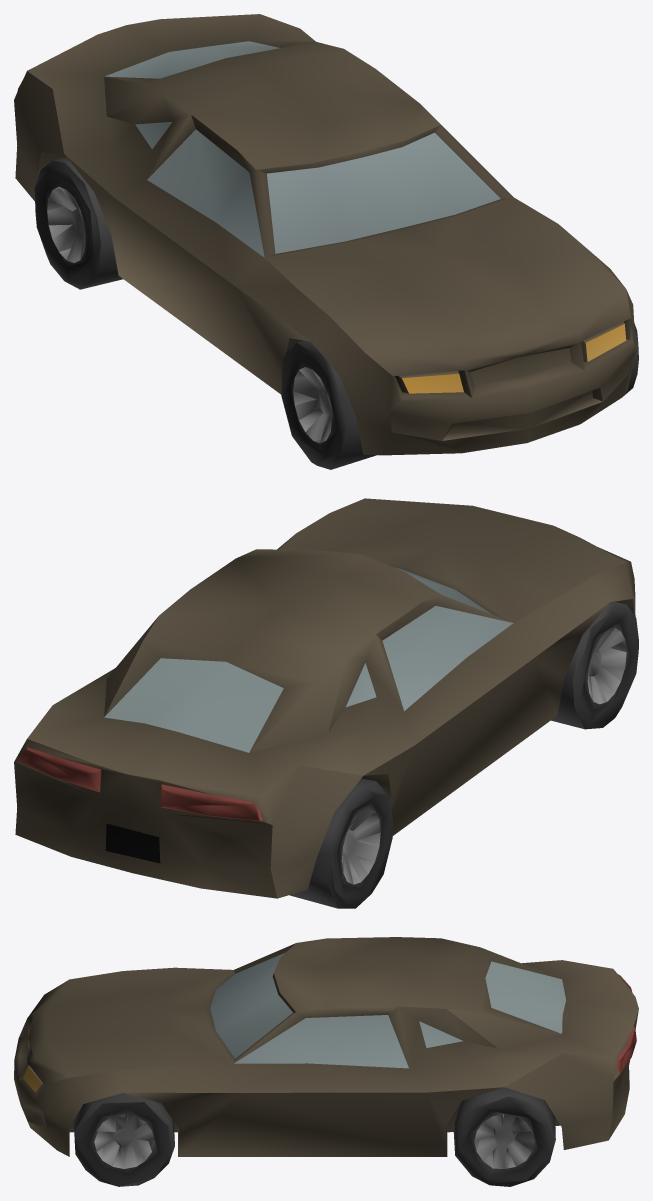
The model's file is Car 8.fbx.
3 views of the same model, one above another, from view 1: azimuth 30°, elevation 25°; view 2: azimuth 150°, elevation 25°; view 3: azimuth 270°, elevation 25° (orthographic). The views are drawn at different scales.
Parts seen in each view (by area): view 1: Car 8.001; view 2: Car 8.001; view 3: Car 8.001.
Part boxes in pixels (x1,y1,x2,y2): Car 8.001: (14, 14, 638, 469); Car 8.001: (14, 498, 638, 908); Car 8.001: (14, 937, 638, 1186).
Size of the model in its own units: 592 by 403 by 1381.
